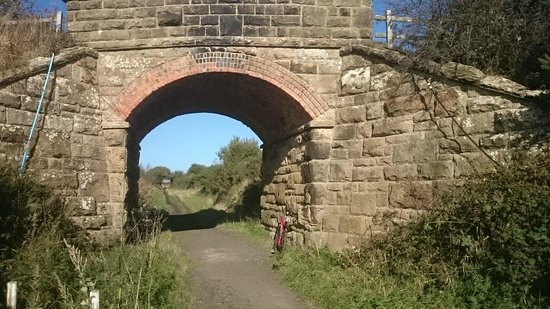bridge: (66, 2, 378, 139)
